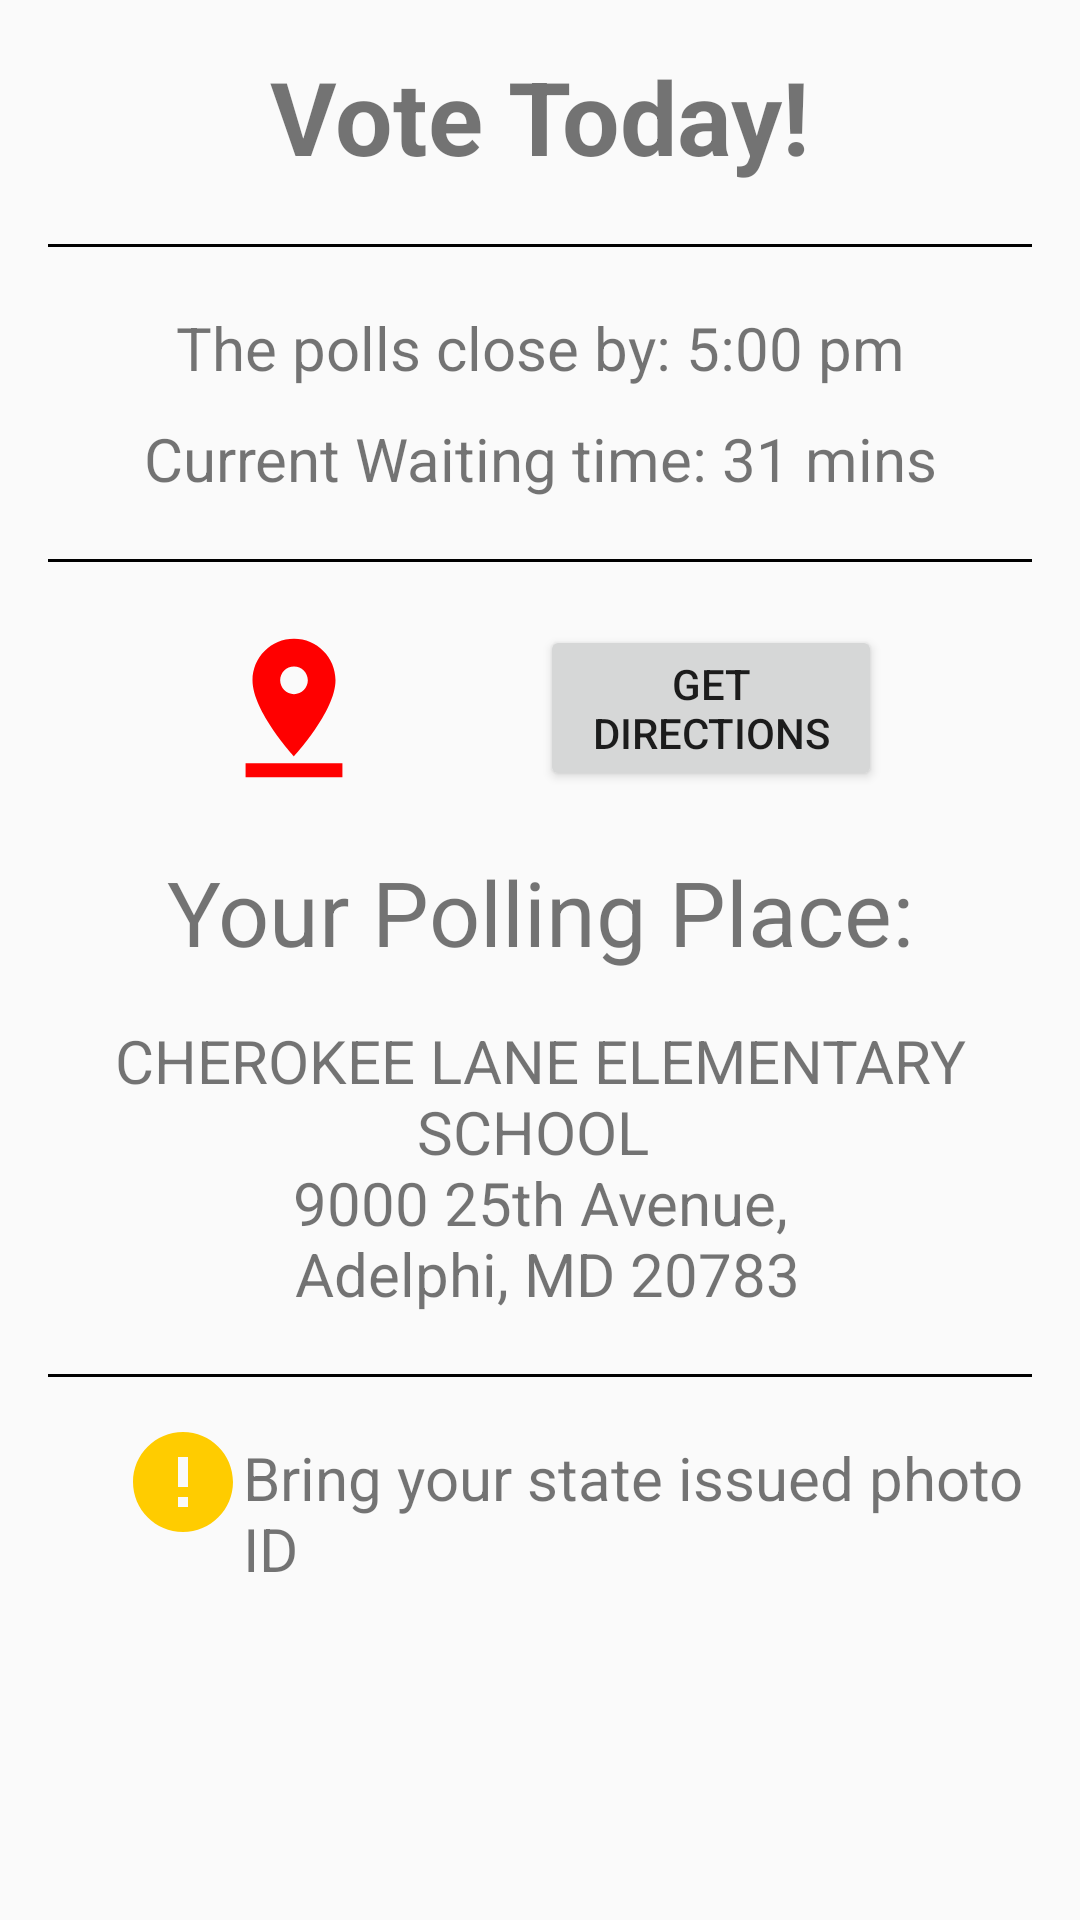

Icons on this 1080px x 1920px Android screen, each with its box as {"x1": x1, "y1": y1, "x2": x2, "y2": y2}:
error: {"x1": 133, "y1": 1432, "x2": 233, "y2": 1532}
pin drop: {"x1": 245, "y1": 638, "x2": 343, "y2": 778}
